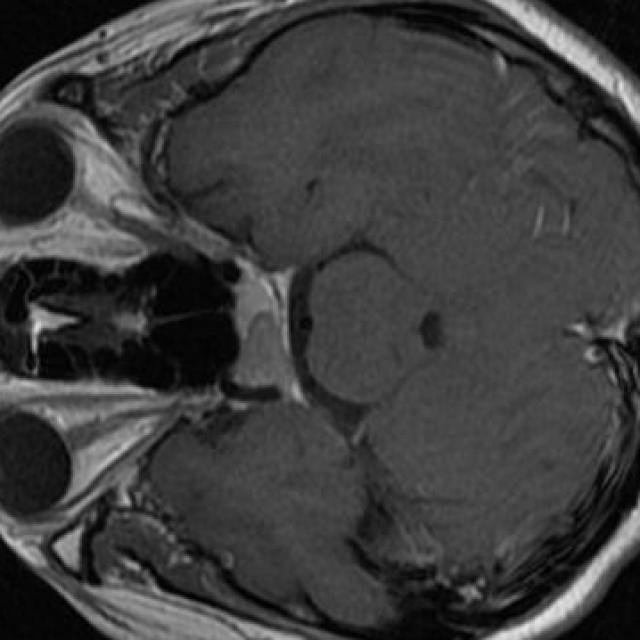pituitary: (232, 278, 291, 390)
